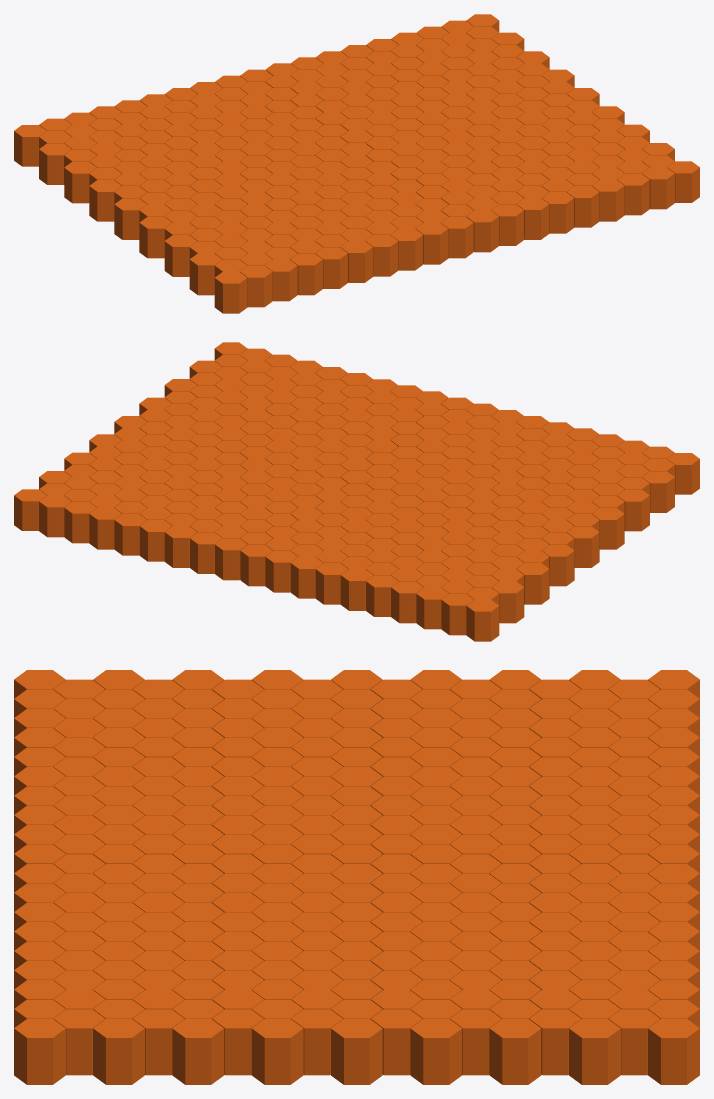
The model's file is MapBoard_Act1.fbx.
The picture shows the model from 3 angles, top to bottom: view 1: azimuth 30°, elevation 25°; view 2: azimuth 150°, elevation 25°; view 3: azimuth 270°, elevation 25°; orthographic projection. The views are drawn at different scales.
Visible parts, largest first — view 1: Cylinder.432; view 2: Cylinder.432; view 3: Cylinder.432.
Boxes of the visible parts, box(x1,y1,x2,y2) form: Cylinder.432: box(14, 14, 699, 313); Cylinder.432: box(14, 342, 699, 641); Cylinder.432: box(14, 670, 699, 1084).
Bounding box in the file's own units: 33.52 × 2 × 26.42.
